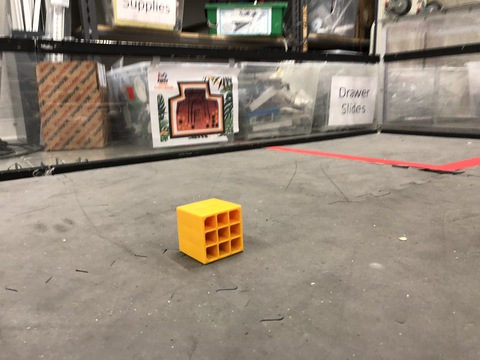block: (163, 197, 259, 268)
